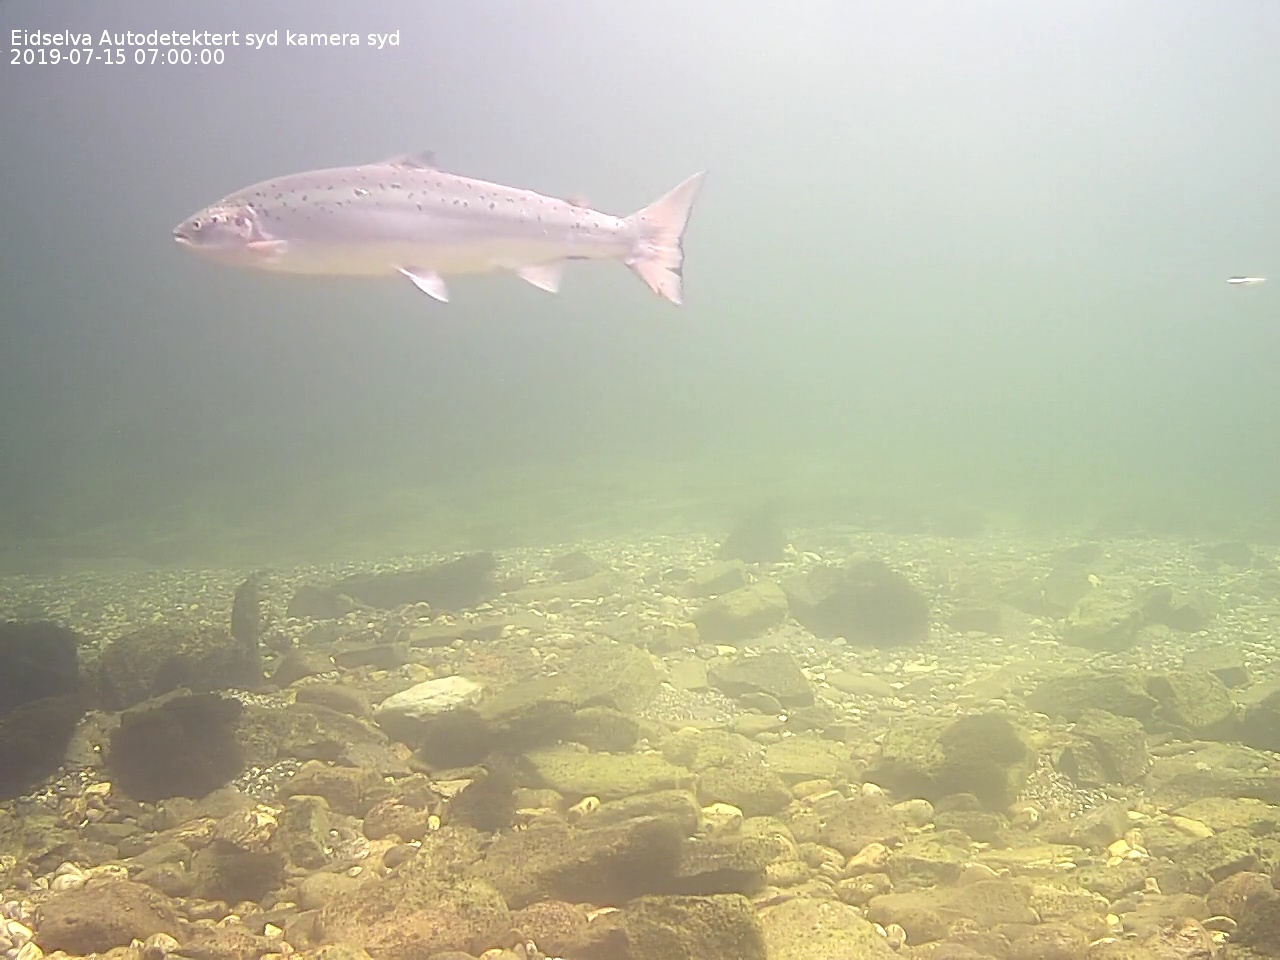salmon: (166, 143, 711, 312)
